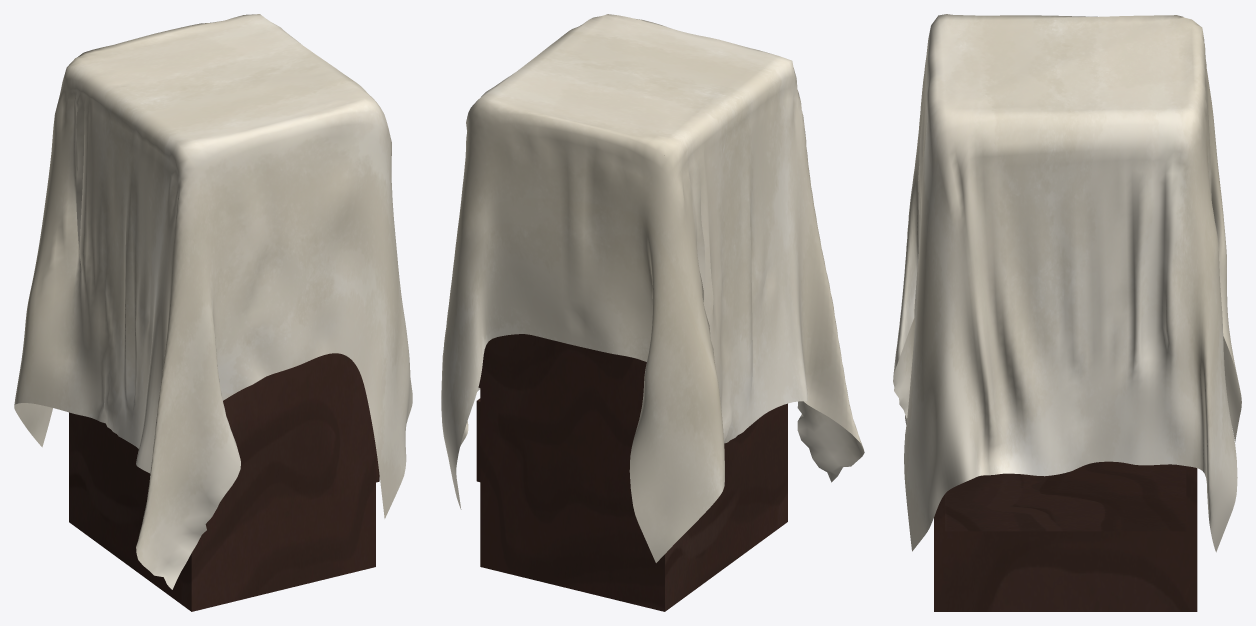
Rendered from örtülü 3.fbx.
3 renders of one model, left to right at view 1: azimuth 30°, elevation 25°; view 2: azimuth 150°, elevation 25°; view 3: azimuth 270°, elevation 25°, orthographic. The views are drawn at different scales.
Visible parts, largest first — view 1: Grid.010, Cube.112; view 2: Grid.010, Cube.112; view 3: Grid.010, Cube.112.
Boxes of the visible parts, x1=… form: Grid.010: x1=14, y1=14, x2=412, y2=589; Cube.112: x1=69, y1=353, x2=379, y2=611; Grid.010: x1=441, y1=14, x2=864, y2=562; Cube.112: x1=476, y1=334, x2=787, y2=611; Grid.010: x1=893, y1=14, x2=1241, y2=552; Cube.112: x1=934, y1=461, x2=1197, y2=611.
Size of the model in its own units: 161 by 239 by 151.
Materials: 2 (2 with a texture image).
